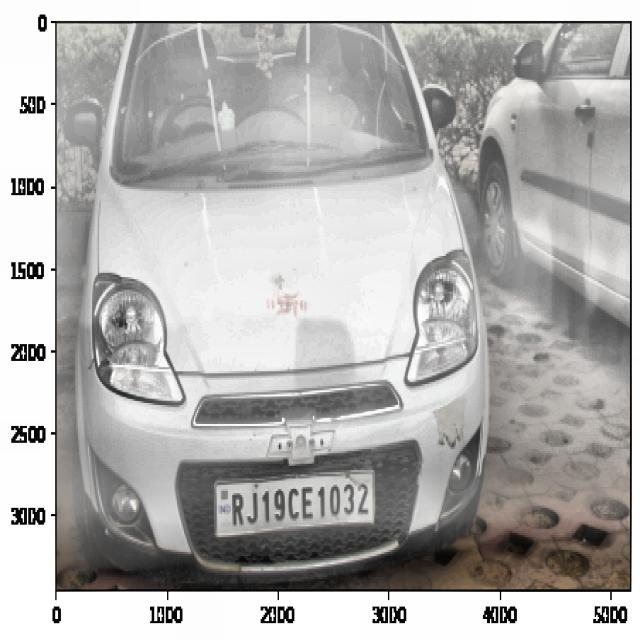license_plate: (226, 475, 372, 529)
